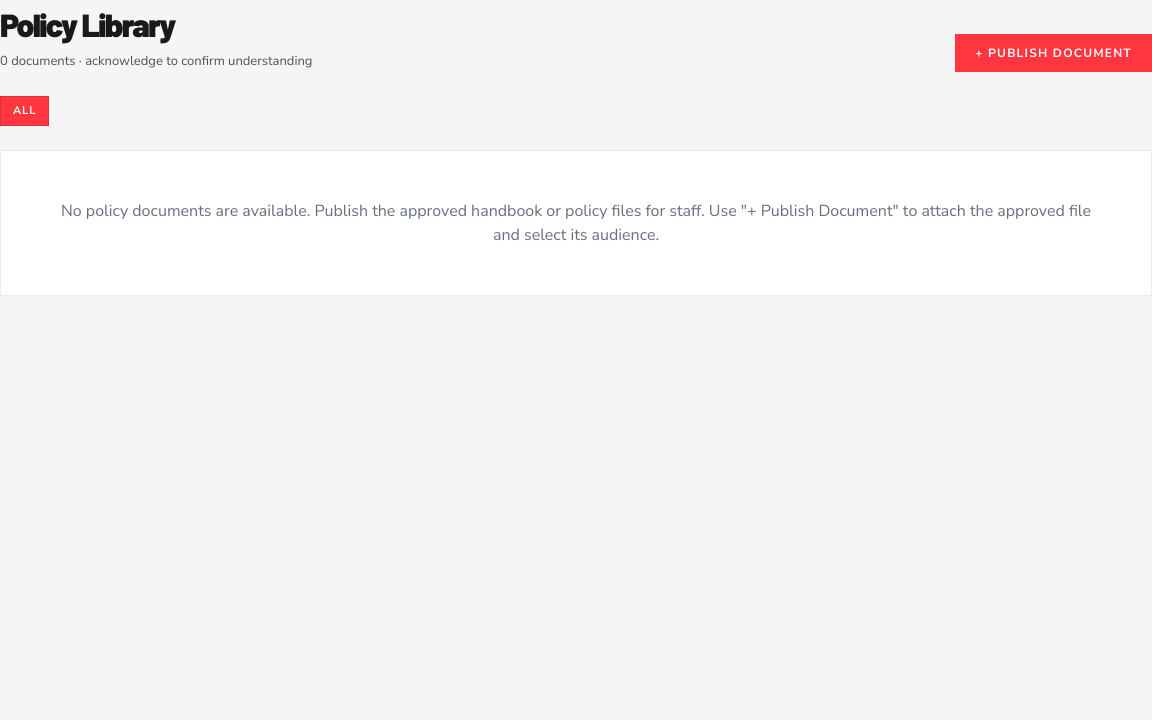
HR can choose the policy audience and employees cannot publish
Click the button with test id "add-policy-btn".
click(1054, 52)  # box [955, 34, 1151, 72]
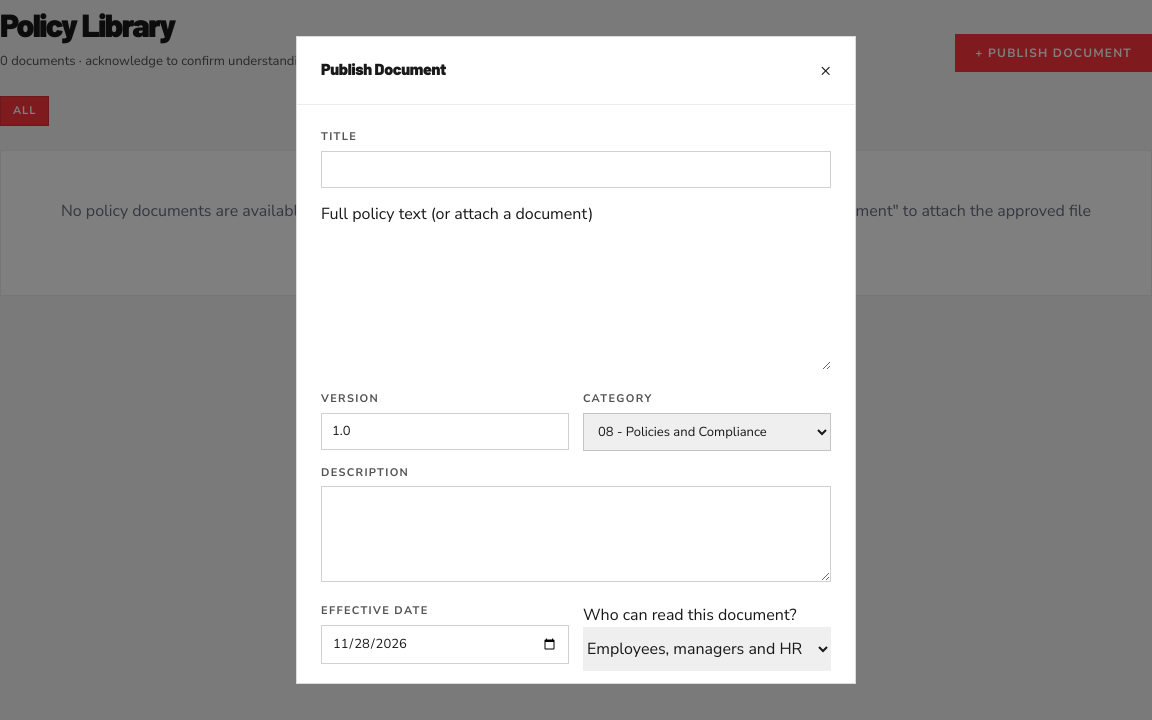
Result: the dropdown labelled "Who can read this document?" shows "Employees, managers and HR" at [583, 627, 831, 671]
